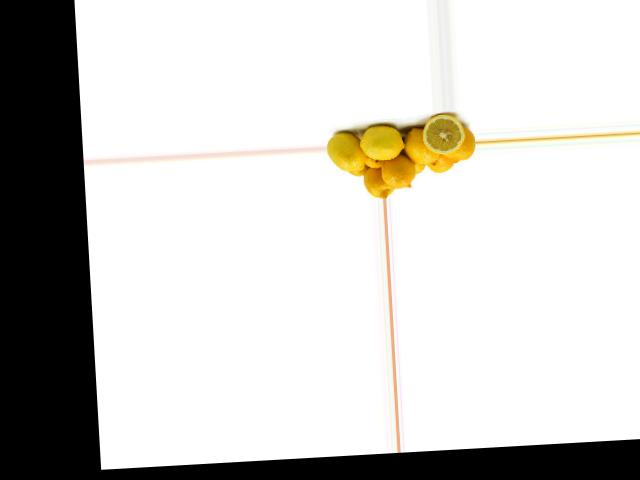lemon: (441, 126, 474, 161)
